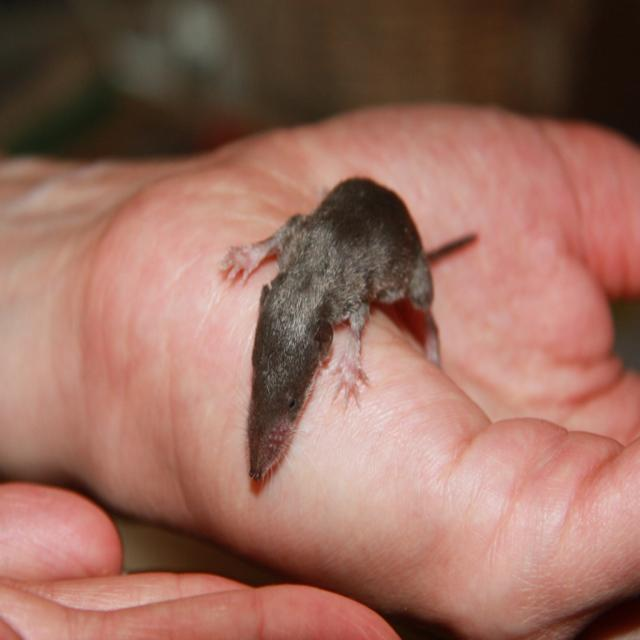rat: (218, 175, 481, 483)
